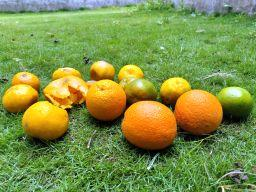orange: (122, 100, 178, 151), (174, 89, 224, 137), (22, 101, 69, 141), (87, 79, 126, 122), (44, 75, 87, 110), (216, 86, 253, 123), (2, 85, 39, 113), (160, 76, 192, 106), (123, 79, 157, 106), (89, 60, 116, 81), (12, 71, 40, 91), (118, 63, 143, 85), (51, 66, 81, 81)
